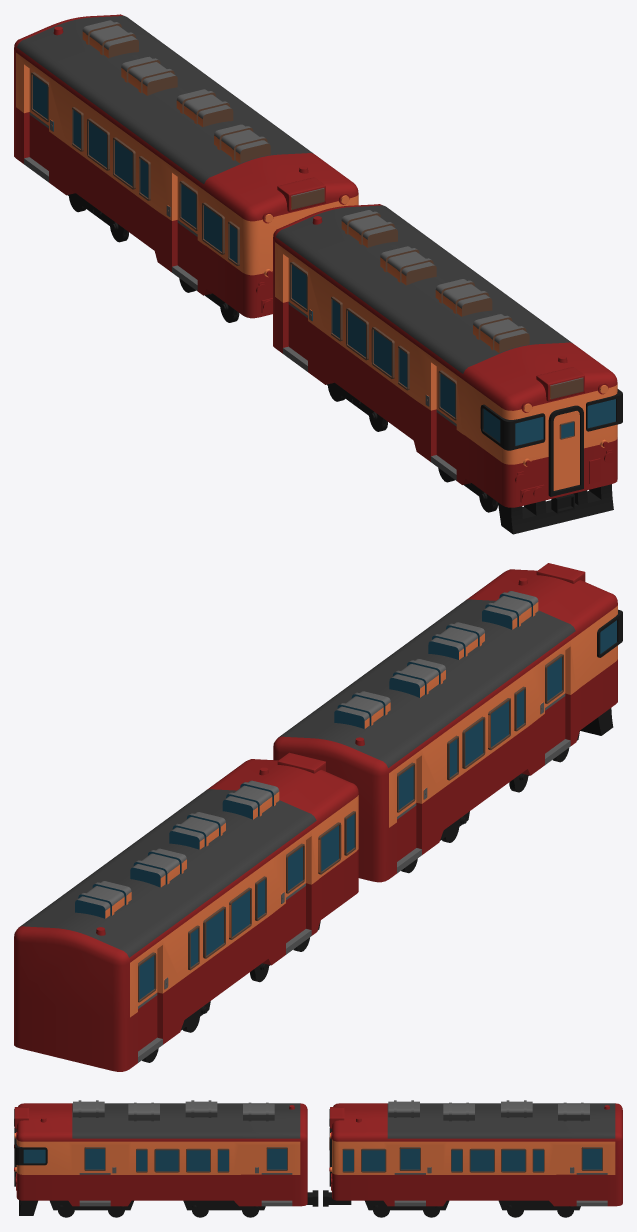
File: red train.FBX
3 renders of one model, top to bottom at view 1: azimuth 30°, elevation 25°; view 2: azimuth 150°, elevation 25°; view 3: azimuth 270°, elevation 25°, orthographic. The views are drawn at different scales.
Parts seen in each view (by area): view 1: Object002; view 2: Object002; view 3: Object002.
Part boxes in pixels (x1,y1,x2,y2): Object002: (14,14,622,534); Object002: (14,563,622,1071); Object002: (14,1100,622,1217).
Size of the model in its own units: 41.11 by 54.76 by 301.
